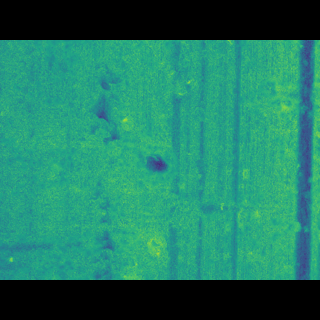Loch: (0, 68, 141, 249), (0, 204, 171, 251), (168, 187, 313, 233), (240, 98, 320, 133), (117, 142, 184, 179)
